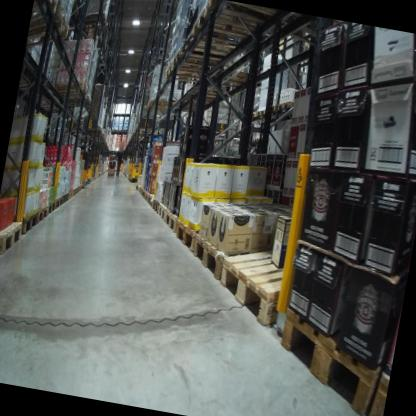pallet: (265, 292, 390, 416), (211, 226, 308, 333), (190, 218, 276, 288), (189, 0, 283, 51), (176, 23, 266, 70), (25, 2, 75, 60), (169, 45, 218, 76), (171, 214, 204, 260), (163, 60, 210, 89), (369, 361, 392, 416), (212, 64, 251, 94), (0, 215, 23, 265), (51, 72, 89, 102), (60, 86, 94, 115), (30, 0, 62, 29), (81, 5, 109, 35), (143, 92, 179, 114), (16, 209, 38, 238), (162, 208, 181, 236), (275, 97, 296, 115), (33, 203, 50, 225), (155, 201, 169, 223), (44, 198, 57, 219), (265, 102, 280, 118), (246, 108, 257, 127), (145, 192, 156, 209), (151, 198, 161, 215), (53, 195, 64, 210), (256, 106, 266, 122), (63, 189, 73, 204), (253, 132, 265, 143), (58, 192, 68, 205), (69, 184, 78, 198), (143, 192, 150, 202), (76, 185, 80, 194)
pallet_truck: (66, 132, 97, 190), (105, 148, 120, 181)
